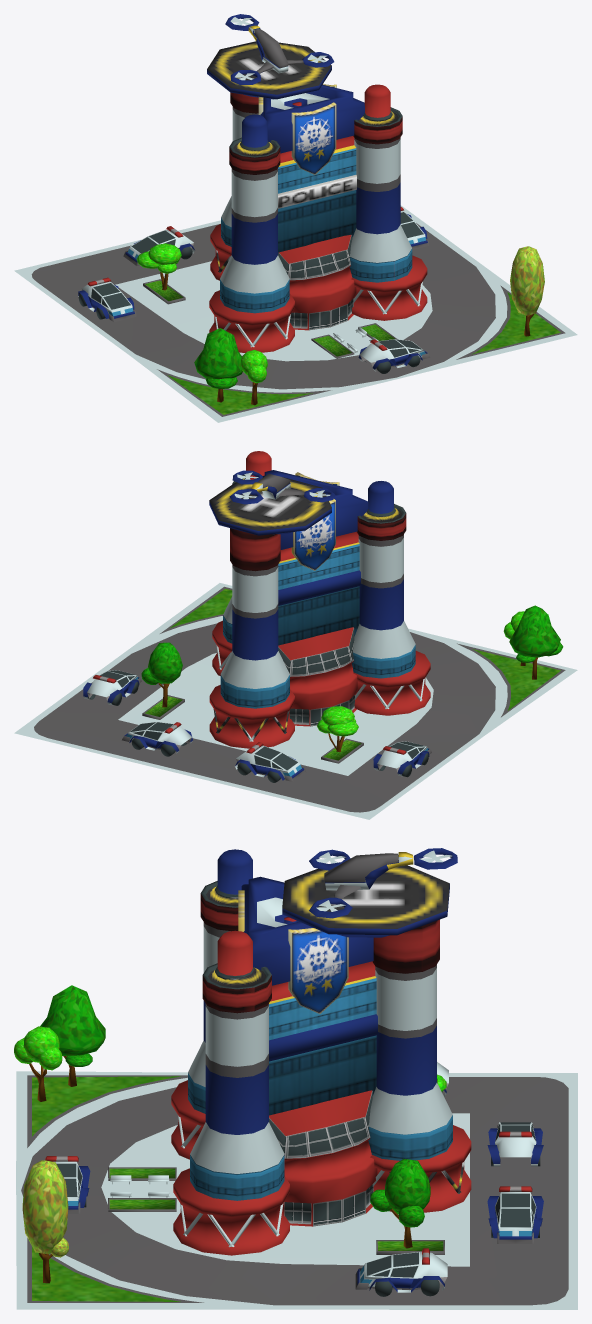
Rendered from policestation_LV1.fbx.
3 renders of one model, top to bottom at view 1: azimuth 30°, elevation 25°; view 2: azimuth 150°, elevation 25°; view 3: azimuth 270°, elevation 25°, orthographic. The views are drawn at different scales.
Parts seen in each view (by area): view 1: police 1; view 2: police 1; view 3: police 1.
Boxes of the visible parts, <box> form: police 1: <box>14,14,577,422</box>; police 1: <box>14,451,577,819</box>; police 1: <box>14,848,577,1309</box>.
Size of the model in its own units: 121 by 79.14 by 120.
